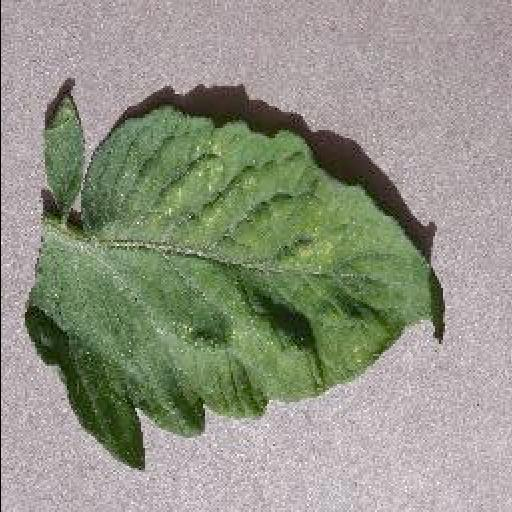disease_tomato: (18, 90, 448, 470)
